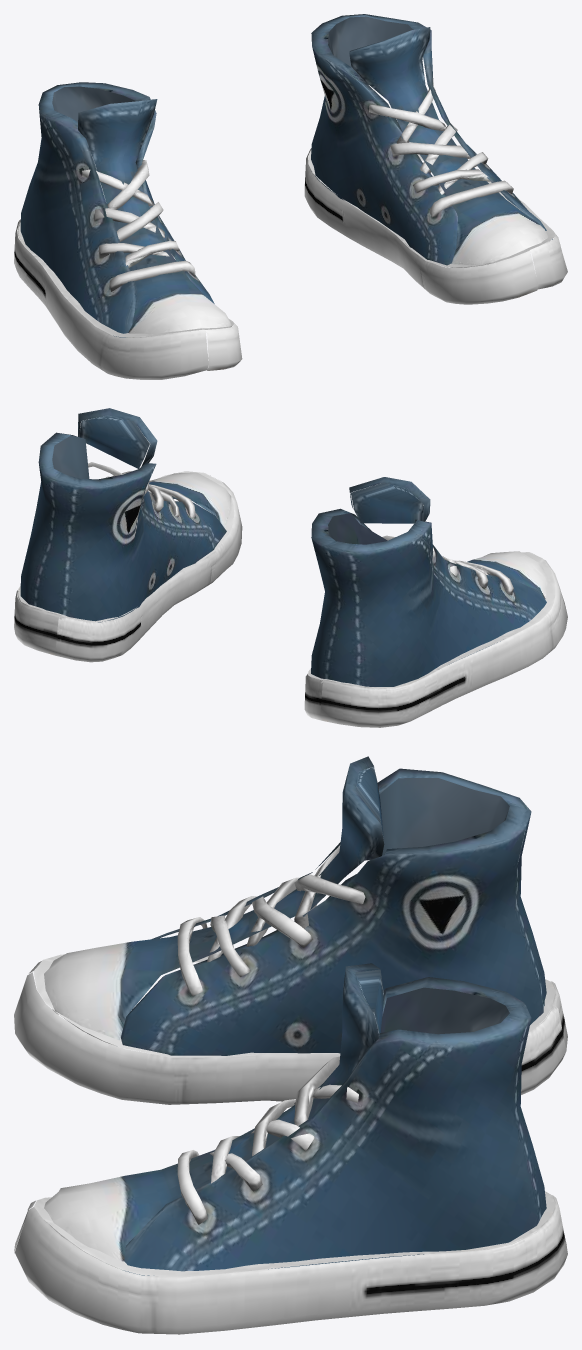
The model's file is shoe1.glb.
3 renders of one model, top to bottom at view 1: azimuth 30°, elevation 25°; view 2: azimuth 150°, elevation 25°; view 3: azimuth 270°, elevation 25°, orthographic. The views are drawn at different scales.
Parts seen in each view (by area): view 1: Wolf3D_Outfit_Footwear; view 2: Wolf3D_Outfit_Footwear; view 3: Wolf3D_Outfit_Footwear.
Part boxes in pixels (x1,y1,x2,y2): Wolf3D_Outfit_Footwear: (14,14,567,379); Wolf3D_Outfit_Footwear: (14,408,567,727); Wolf3D_Outfit_Footwear: (14,756,567,1334).
Size of the model in its own units: 0.4879 by 0.2157 by 0.3465.
Materials: 1 (1 with a texture image).
